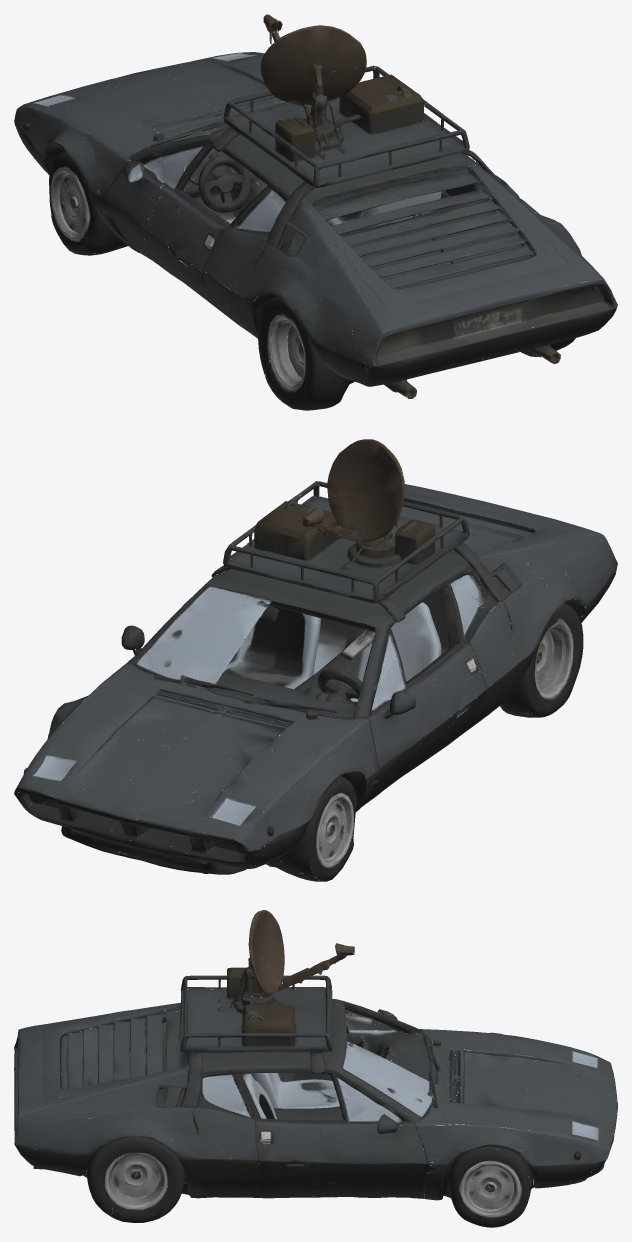
Rendered from arrow_tripo.glb.
3 views of the same model, one above another, from view 1: azimuth 30°, elevation 25°; view 2: azimuth 150°, elevation 25°; view 3: azimuth 270°, elevation 25° (orthographic). The views are drawn at different scales.
Visible parts, largest first — view 1: tripo_node_07452142-7878-4b56-a25f-cb7a855b6ae8; view 2: tripo_node_07452142-7878-4b56-a25f-cb7a855b6ae8; view 3: tripo_node_07452142-7878-4b56-a25f-cb7a855b6ae8.
Boxes of the visible parts, <box> form: tripo_node_07452142-7878-4b56-a25f-cb7a855b6ae8: <box>14,14,617,410</box>; tripo_node_07452142-7878-4b56-a25f-cb7a855b6ae8: <box>14,439,617,881</box>; tripo_node_07452142-7878-4b56-a25f-cb7a855b6ae8: <box>14,910,617,1227</box>.
Bounding box in the file's own units: 1.95 × 1.96 × 4.3.
Materials: 1 (1 with a texture image).
